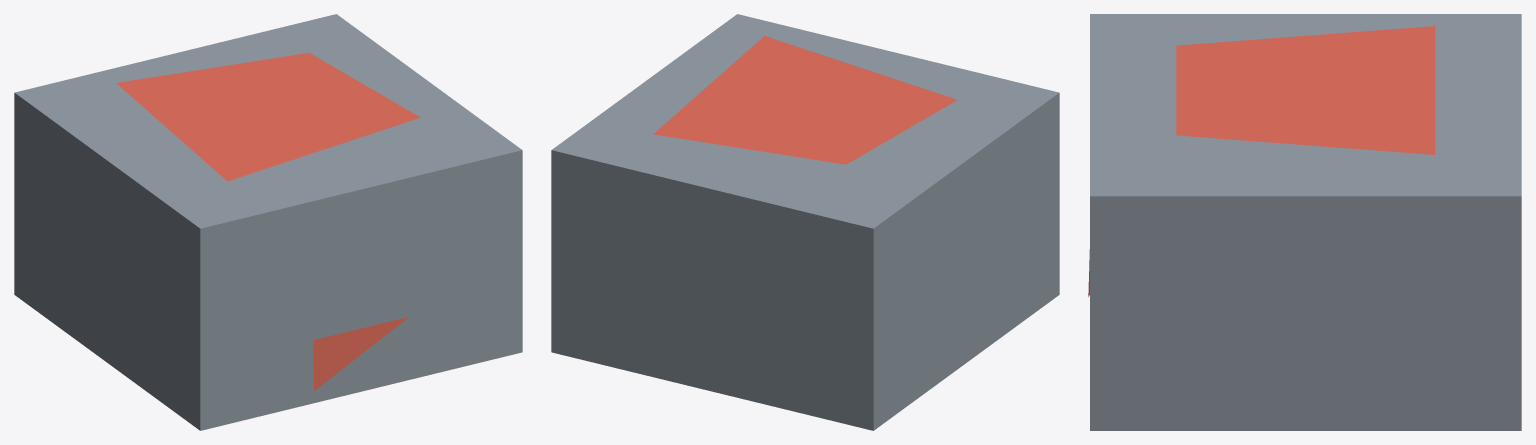
File: SU_ConYard_LOD1.glb
3 renders of one model, left to right at view 1: azimuth 30°, elevation 25°; view 2: azimuth 150°, elevation 25°; view 3: azimuth 270°, elevation 25°, orthographic. The views are drawn at different scales.
Visible parts, largest first — view 1: EntranceGate; view 2: EntranceGate; view 3: EntranceGate.
Part boxes in pixels (x1=…): EntranceGate: x1=14, y1=14, x2=522, y2=430; EntranceGate: x1=551, y1=14, x2=1059, y2=430; EntranceGate: x1=1088, y1=14, x2=1521, y2=430.
Bounding box in the file's own units: 800 × 530 × 803.
